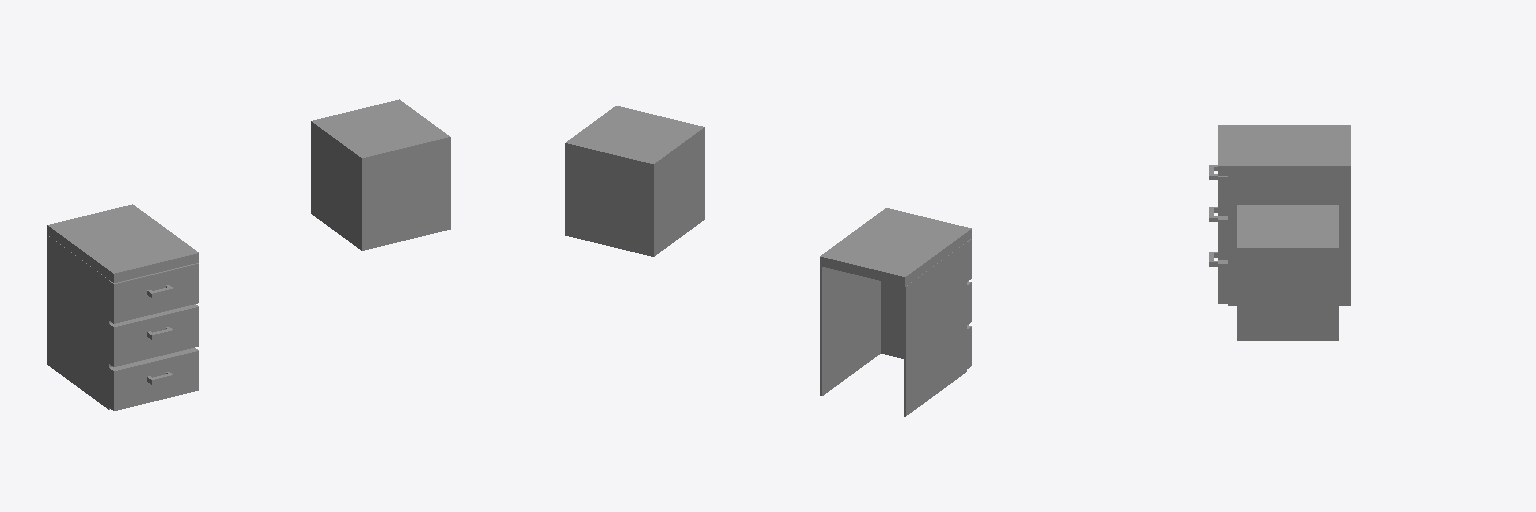
The model's file is cassetti_cucina.obj.
3 views of the same model, side by side, from view 1: azimuth 30°, elevation 25°; view 2: azimuth 150°, elevation 25°; view 3: azimuth 270°, elevation 25° (orthographic).
Visible parts, largest first — view 1: Cube.002_Cube.002_WoodCherry, Cube, Cube_Cube.003_Material.002, Cube.002_Cube.002_Aluminum.001; view 2: Cube, Cube.002_Cube.002_WoodCherry, Cube_Cube.003_Material.002; view 3: Cube, Cube.002_Cube.002_WoodCherry, Cube_Cube.003_Material.002.
Boxes of the visible parts, x1=… form: Cube.002_Cube.002_WoodCherry: x1=47, y1=235, x2=198, y2=410; Cube: x1=311, y1=99, x2=450, y2=250; Cube_Cube.003_Material.002: x1=47, y1=204, x2=198, y2=282; Cube.002_Cube.002_Aluminum.001: x1=147, y1=285, x2=173, y2=384; Cube: x1=565, y1=106, x2=704, y2=256; Cube.002_Cube.002_WoodCherry: x1=820, y1=239, x2=971, y2=416; Cube_Cube.003_Material.002: x1=820, y1=208, x2=971, y2=286; Cube: x1=1237, y1=205, x2=1338, y2=340; Cube.002_Cube.002_WoodCherry: x1=1218, y1=176, x2=1350, y2=305; Cube_Cube.003_Material.002: x1=1218, y1=125, x2=1350, y2=175.
Bounding box in the file's own units: 7.82 × 4 × 2.79.